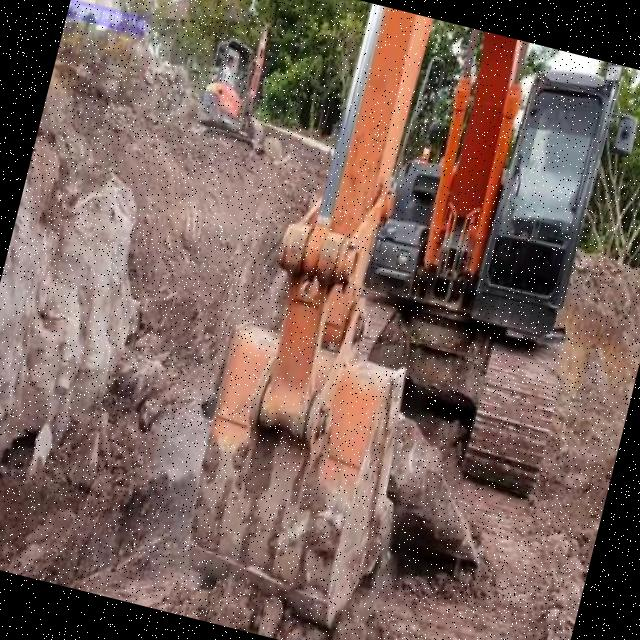Excavator: (166, 0, 640, 640), (196, 15, 281, 138)
